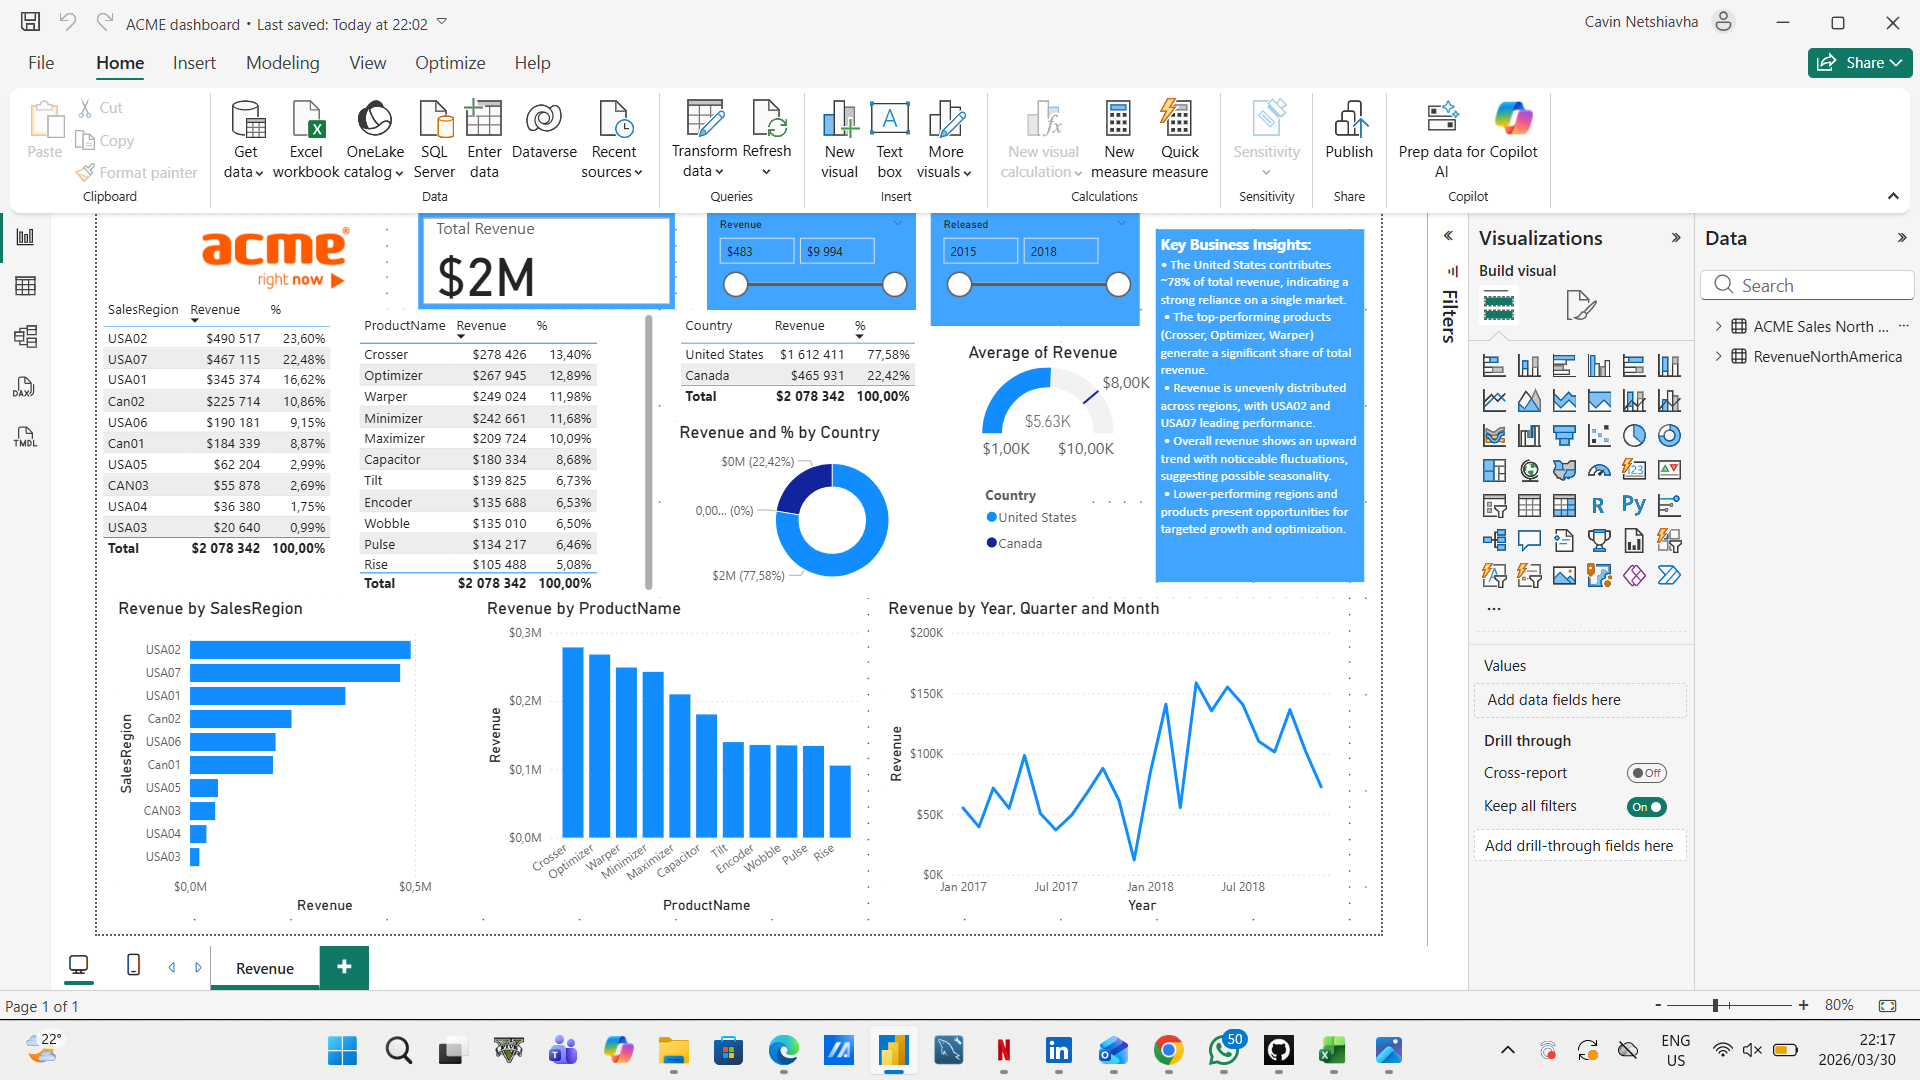

Layout of this report page (visuals, bound fields, positions):
{"tool":"powerbi","page":{"name":"Revenue","canvas":[1280,720],"ordinal":0},"visuals":[{"type":"image","box":[16,0,320,96],"z":0},{"type":"tableEx","fields":{"Values":["ACME Sales North America.SalesRegion","Sum(ACME Sales North America.Revenue)","Divide(Sum(ACME Sales North America.Revenue), ScopedEval(Sum(ACME Sales North America.Revenue), []))"]},"box":[0,80,288,304],"z":1000},{"type":"tableEx","fields":{"Values":["RevenueNorthAmerica.ProductName","Sum(RevenueNorthAmerica.Revenue)","Divide(Sum(RevenueNorthAmerica.Revenue), ScopedEval(Sum(RevenueNorthAmerica.Revenue), []))"]},"box":[256,96,304,288],"z":2000},{"type":"tableEx","fields":{"Values":["RevenueNorthAmerica.Country","Sum(RevenueNorthAmerica.Revenue)","Divide(Sum(RevenueNorthAmerica.Revenue), ScopedEval(Sum(RevenueNorthAmerica.Revenue), []))"]},"box":[593.4,95.8,276.2,116.9],"z":3000},{"type":"tableEx","fields":{"Values":["RevenueNorthAmerica.Country","Sum(RevenueNorthAmerica.Revenue)","Divide(Sum(RevenueNorthAmerica.Revenue), ScopedEval(Sum(RevenueNorthAmerica.Revenue), []))"]},"box":[576,96,368,112],"z":4000},{"type":"donutChart","fields":{"Category":["RevenueNorthAmerica.Country"],"Y":["Sum(RevenueNorthAmerica.Revenue)","Divide(Sum(RevenueNorthAmerica.Revenue), ScopedEval(Sum(RevenueNorthAmerica.Revenue), []))"]},"box":[576,208,416,176],"z":5000},{"type":"lineChart","fields":{"Y":["Sum(RevenueNorthAmerica.Revenue)"],"Category":["RevenueNorthAmerica.SalesDate.Variation.Date Hierarchy.Year","RevenueNorthAmerica.SalesDate.Variation.Date Hierarchy.Quarter","RevenueNorthAmerica.SalesDate.Variation.Date Hierarchy.Month"]},"box":[784,384,464,320],"z":6000},{"type":"clusteredColumnChart","fields":{"Category":["RevenueNorthAmerica.ProductName"],"Y":["Sum(RevenueNorthAmerica.Revenue)"]},"box":[384,384,384,320],"z":7000},{"type":"clusteredBarChart","fields":{"Y":["Sum(RevenueNorthAmerica.Revenue)"],"Category":["RevenueNorthAmerica.SalesRegion"]},"box":[16,384,368,320],"z":8000},{"type":"slicer","fields":{"Values":["RevenueNorthAmerica.Revenue"]},"box":[608,0,208,96],"z":9000},{"type":"slicer","fields":{"Values":["RevenueNorthAmerica.Released"]},"box":[832,0,208,112],"z":10000},{"type":"gauge","fields":{"Y":["Avg(RevenueNorthAmerica.Revenue)"]},"box":[864,128,208,128],"z":11000},{"type":"cardVisual","fields":{"Data":["Sum(RevenueNorthAmerica.Revenue)"]},"box":[320,0,256,96],"z":12000},{"type":"textbox","box":[1056,16,208,352],"z":12001}]}

Visuals, with their boxes on the page's 1280x720 design canvas (x1, y1, x2, y2). These are canvas units, not pixel positions in the 1920x1080 screenshot, which may show the page scaled, cropped or inside an application window:
image: x1=16, y1=0, x2=336, y2=96
tableEx - ACME Sales North America.SalesRegion x Sum(ACME Sales North America.Revenue): x1=0, y1=80, x2=288, y2=384
tableEx - RevenueNorthAmerica.ProductName x Sum(RevenueNorthAmerica.Revenue): x1=256, y1=96, x2=560, y2=384
tableEx - RevenueNorthAmerica.Country x Sum(RevenueNorthAmerica.Revenue): x1=593, y1=96, x2=870, y2=213
tableEx - RevenueNorthAmerica.Country x Sum(RevenueNorthAmerica.Revenue): x1=576, y1=96, x2=944, y2=208
donutChart - RevenueNorthAmerica.Country x Sum(RevenueNorthAmerica.Revenue): x1=576, y1=208, x2=992, y2=384
lineChart - Sum(RevenueNorthAmerica.Revenue) x RevenueNorthAmerica.SalesDate.Variation.Date Hierarchy.Year: x1=784, y1=384, x2=1248, y2=704
clusteredColumnChart - RevenueNorthAmerica.ProductName x Sum(RevenueNorthAmerica.Revenue): x1=384, y1=384, x2=768, y2=704
clusteredBarChart - Sum(RevenueNorthAmerica.Revenue) x RevenueNorthAmerica.SalesRegion: x1=16, y1=384, x2=384, y2=704
slicer - RevenueNorthAmerica.Revenue: x1=608, y1=0, x2=816, y2=96
slicer - RevenueNorthAmerica.Released: x1=832, y1=0, x2=1040, y2=112
gauge - Avg(RevenueNorthAmerica.Revenue): x1=864, y1=128, x2=1072, y2=256
cardVisual - Sum(RevenueNorthAmerica.Revenue): x1=320, y1=0, x2=576, y2=96
textbox: x1=1056, y1=16, x2=1264, y2=368
